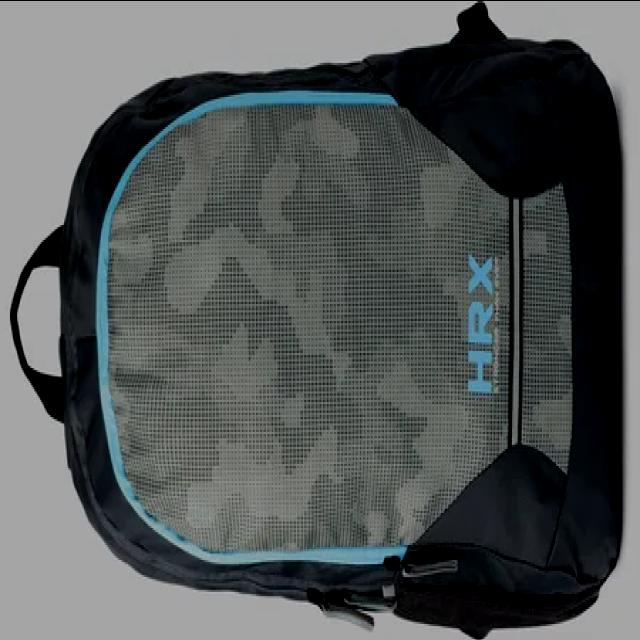backpack: (10, 3, 622, 640)
